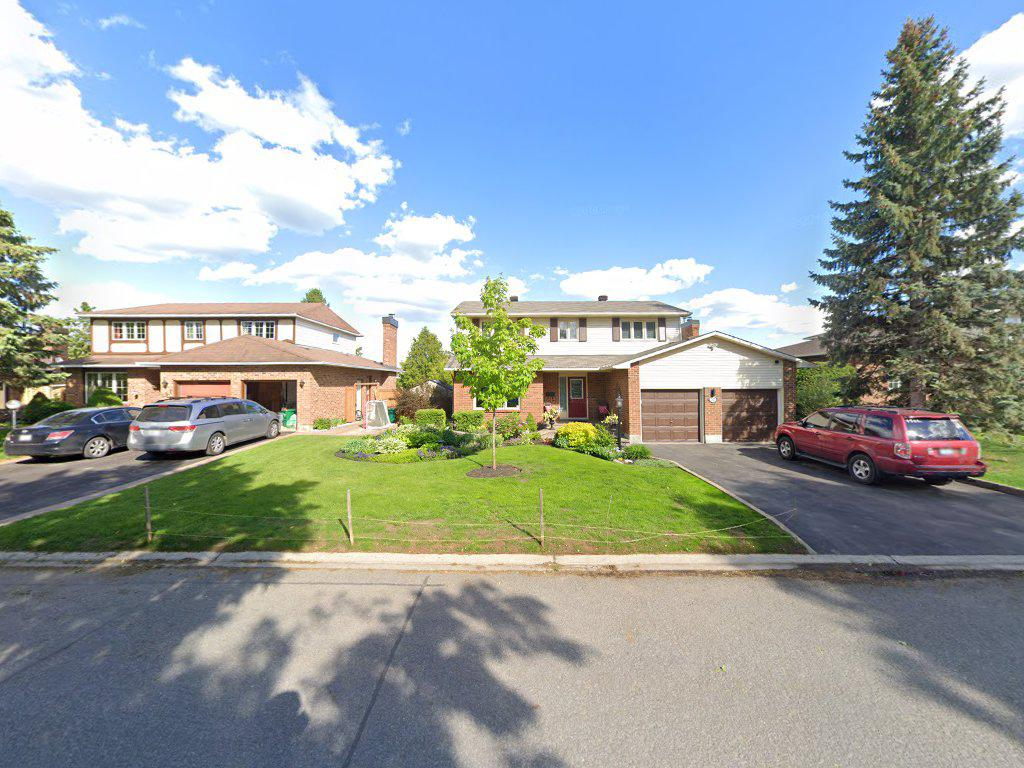trunk: (488, 404, 503, 476)
